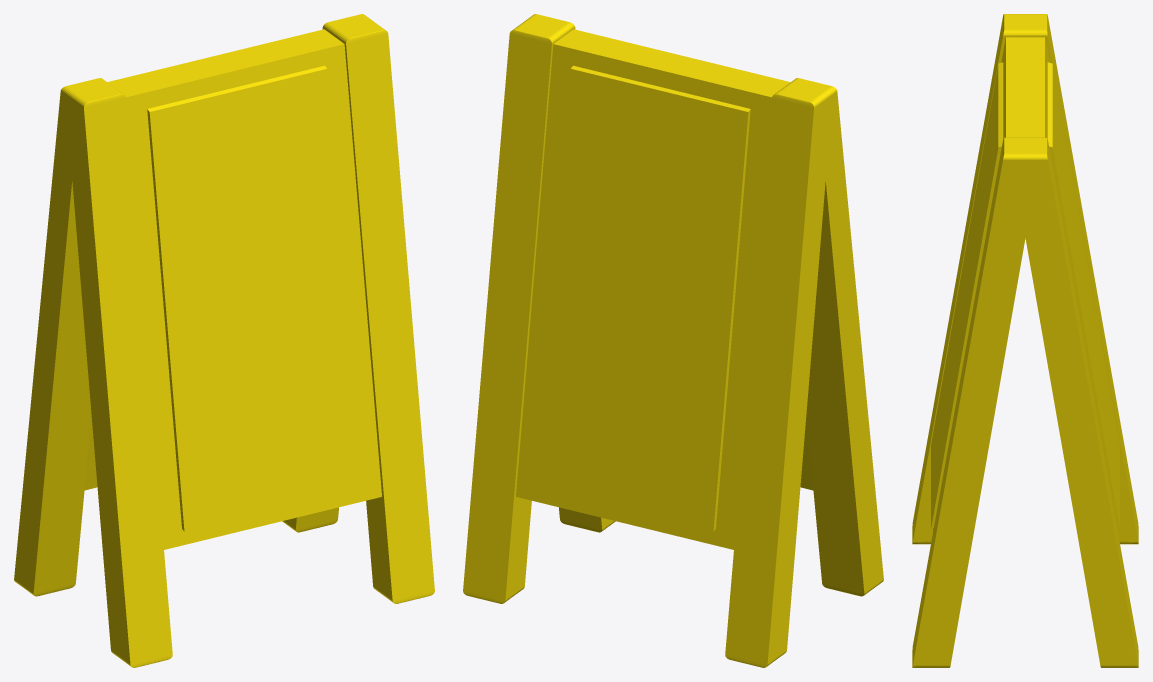
File: WetFloorSign.fbx
The picture shows the model from 3 angles, left to right: view 1: azimuth 30°, elevation 25°; view 2: azimuth 150°, elevation 25°; view 3: azimuth 270°, elevation 25°; orthographic projection. The views are drawn at different scales.
Visible parts, largest first — view 1: wet_floor_sign; view 2: wet_floor_sign; view 3: wet_floor_sign.
Part boxes in pixels (x1=…): wet_floor_sign: x1=14, y1=14, x2=434, y2=667; wet_floor_sign: x1=463, y1=14, x2=883, y2=667; wet_floor_sign: x1=912, y1=14, x2=1138, y2=667.
Size of the model in its own units: 180 by 300 by 120.
